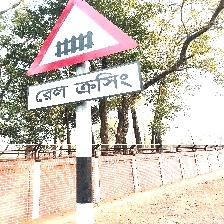Rail-crossing: (25, 0, 142, 114)
